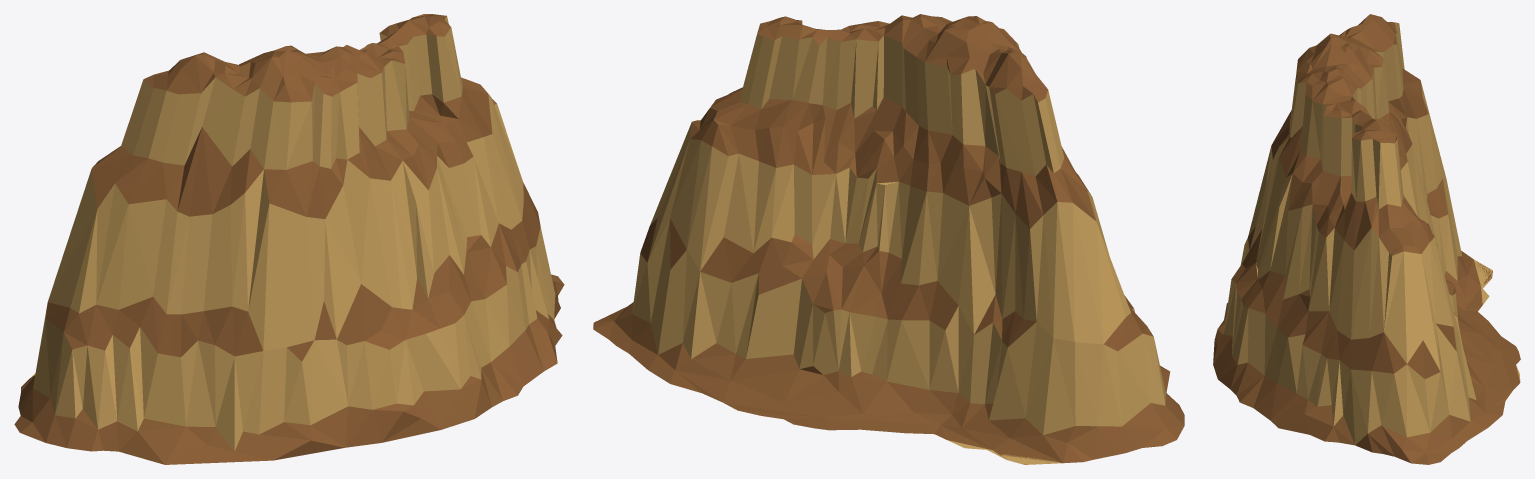
Rendered from Island3.fbx.
3 renders of one model, left to right at view 1: azimuth 30°, elevation 25°; view 2: azimuth 150°, elevation 25°; view 3: azimuth 270°, elevation 25°, orthographic. The views are drawn at different scales.
Parts seen in each view (by area): view 1: Mounting_3; view 2: Mounting_3; view 3: Mounting_3.
Boxes of the visible parts, box(x1,y1,x2,y2) form: Mounting_3: box(14, 14, 564, 464); Mounting_3: box(593, 14, 1184, 464); Mounting_3: box(1213, 14, 1520, 464).
Size of the model in its own units: 2470 by 1457 by 1390.
